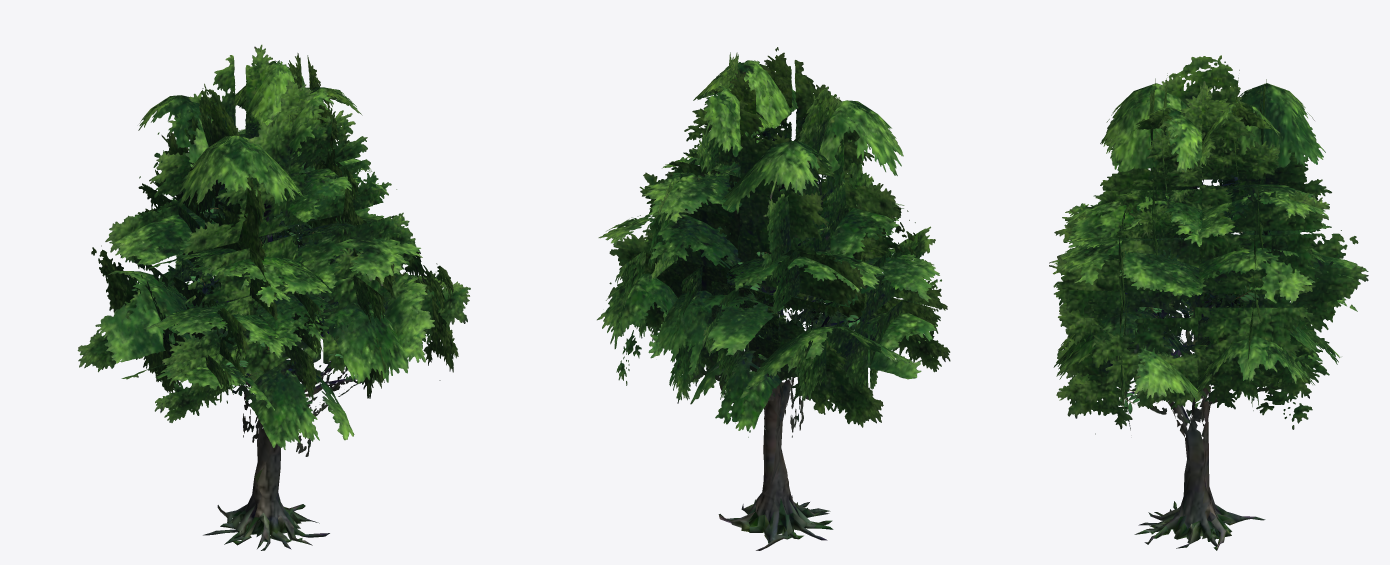
Rendered from verdant-sentinel-near.glb.
3 views of the same model, side by side, from view 1: azimuth 30°, elevation 25°; view 2: azimuth 150°, elevation 25°; view 3: azimuth 270°, elevation 25° (orthographic).
Parts seen in each view (by area): view 1: Foliage, Wood; view 2: Foliage, Wood; view 3: Foliage, Wood.
Part boxes in pixels (x1=…): Foliage: x1=77, y1=44, x2=470, y2=456; Wood: x1=192, y1=154, x2=356, y2=550; Foliage: x1=597, y1=47, x2=950, y2=437; Wood: x1=717, y1=129, x2=860, y2=550; Foliage: x1=1049, y1=55, x2=1368, y2=434; Wood: x1=1125, y1=138, x2=1270, y2=550.
Bounding box in the file's own units: 9.68 × 12.12 × 7.8.
2 materials, 2 textured.
